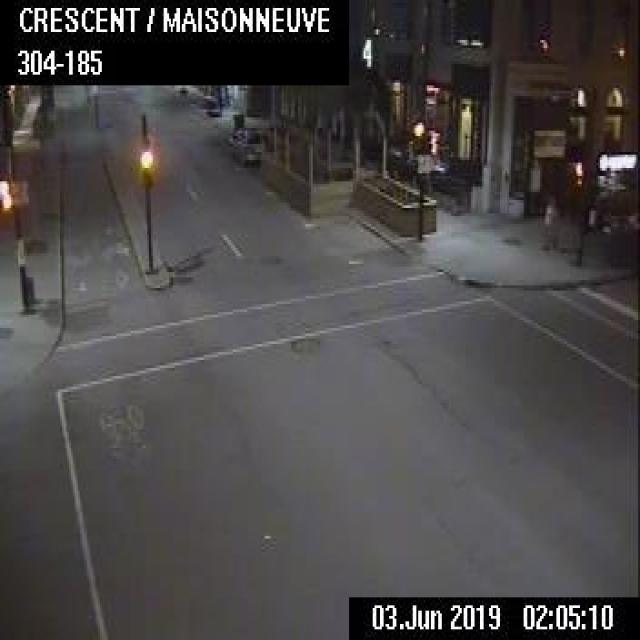pedestrian: (540, 192, 559, 248)
vehicle: (231, 124, 268, 163)
